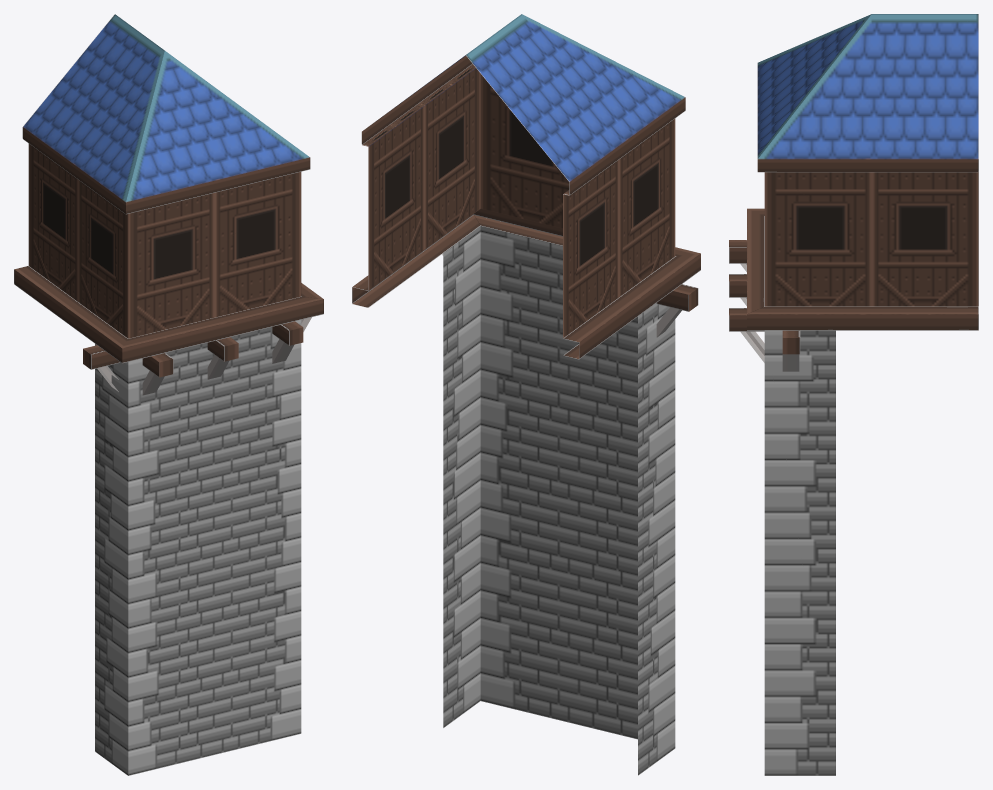
The model's file is Castle_Wall_Tower_1.fbx.
3 views of the same model, side by side, from view 1: azimuth 30°, elevation 25°; view 2: azimuth 150°, elevation 25°; view 3: azimuth 270°, elevation 25° (orthographic). The views are drawn at different scales.
Visible parts, largest first — view 1: Castle_Wall_Tower_1; view 2: Castle_Wall_Tower_1; view 3: Castle_Wall_Tower_1.
Part boxes in pixels (left/top/right/bottom): Castle_Wall_Tower_1: left=14, top=14, right=323, bottom=775; Castle_Wall_Tower_1: left=352, top=14, right=700, bottom=775; Castle_Wall_Tower_1: left=729, top=14, right=978, bottom=775.
Size of the model in its own units: 800 by 2215 by 700.
Materials: 2 (2 with a texture image).
